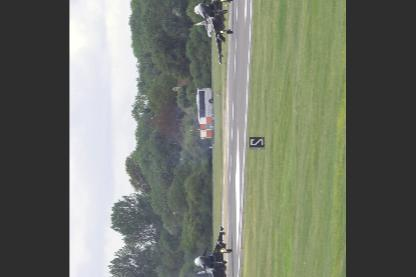E2: (194, 0, 234, 63), (194, 224, 233, 276)
